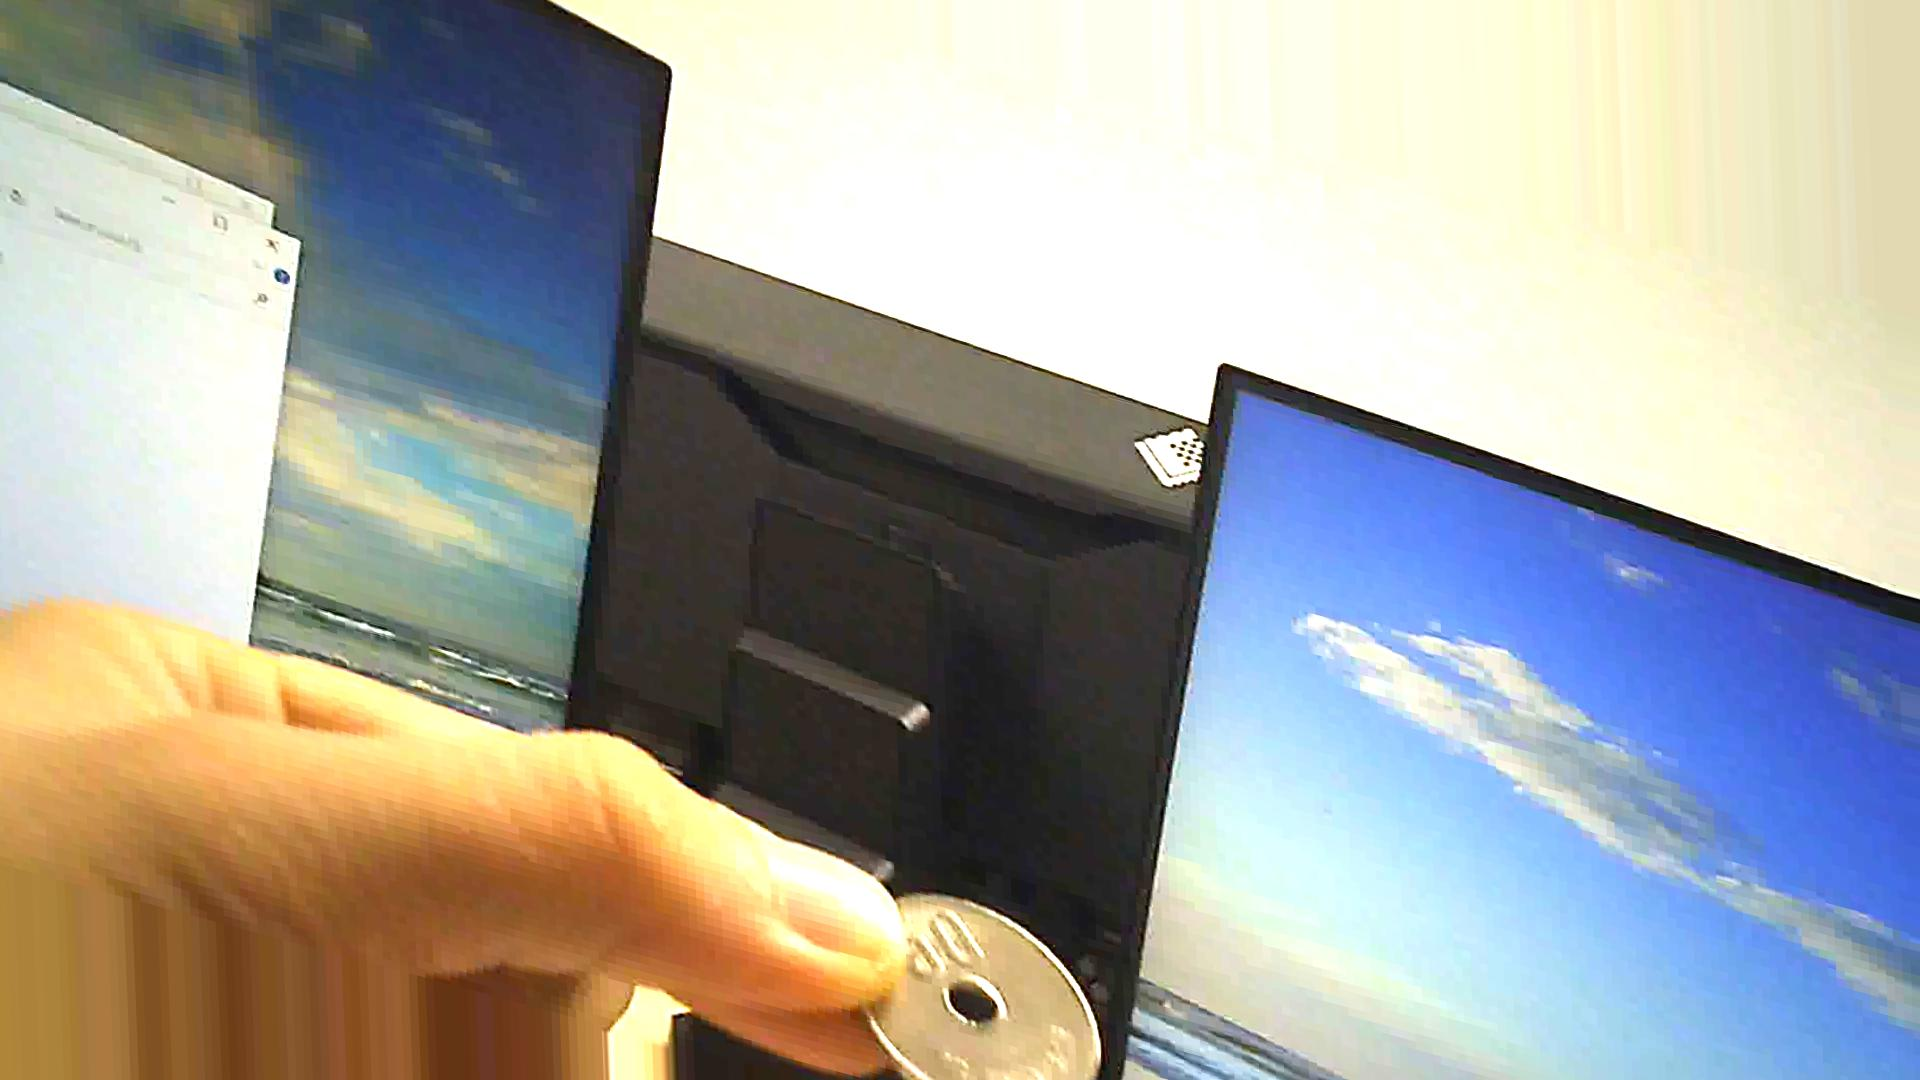50 Yen: (844, 858, 1106, 1079)
